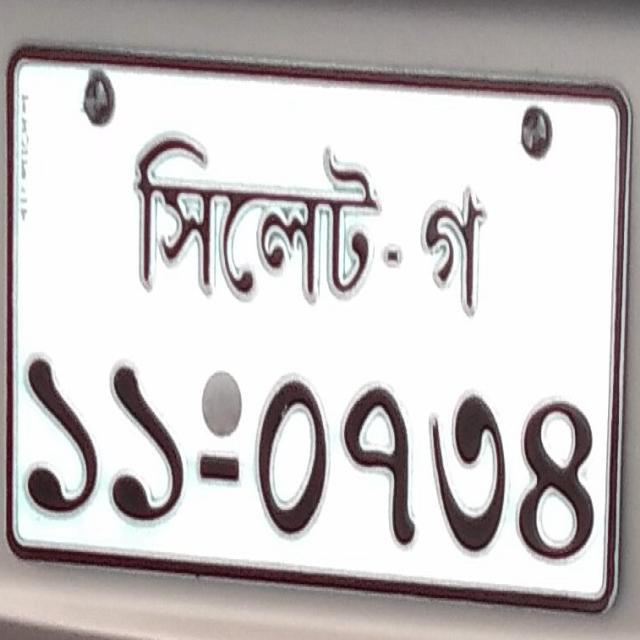cng: (132, 130, 382, 303)
numberplate: (0, 41, 633, 616)
